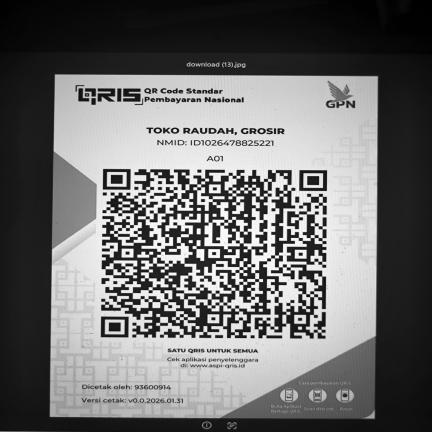Cara Pakai QRIS: (267, 378, 374, 418)
Cek Aplikasi Penyelenggara: (160, 356, 268, 369)
Dicetak Oleh: (77, 381, 178, 392)
Logo GPN: (321, 79, 360, 113)
Logo dan deskripsi QRIS: (70, 82, 253, 108)
Nama Merchant: (141, 123, 291, 137)
National Merchant ID: (141, 137, 291, 149)
QR Code: (96, 165, 335, 342)
Slogan: (161, 346, 267, 355)
Terminal ID: (200, 154, 233, 164)
Versi Cetak: (78, 396, 188, 405)
